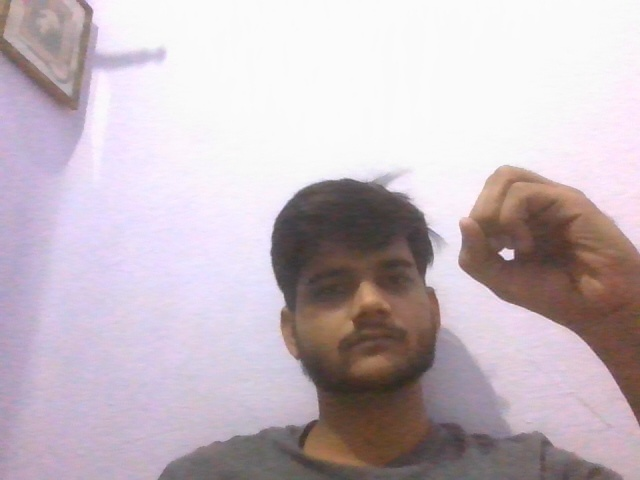no: (446, 153, 640, 357)
